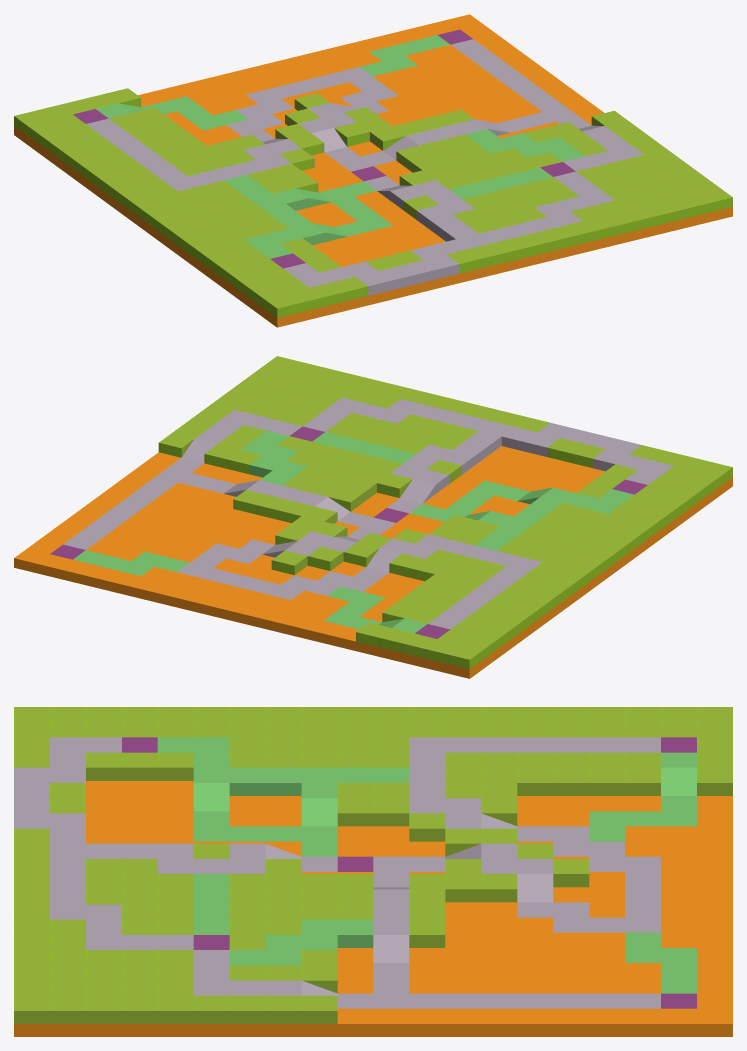
The model's file is JGTerr.fbx.
3 views of the same model, one above another, from view 1: azimuth 30°, elevation 25°; view 2: azimuth 150°, elevation 25°; view 3: azimuth 270°, elevation 25° (orthographic). The views are drawn at different scales.
Parts seen in each view (by area): view 1: HiPlain, LgPlain, Road.034, LgRoad.041; view 2: HiPlain, LgPlain, Road.034, LgRoad.041; view 3: HiPlain, LgPlain, Road.034, LgRoad.041, Temle.004, Temle.001, Temle.002, Temle.003, Temle.
Part boxes in pixels (bbox=[...]): HiPlain: bbox=[14, 88, 732, 317]; LgPlain: bbox=[14, 14, 732, 327]; Road.034: bbox=[86, 39, 643, 295]; LgRoad.041: bbox=[96, 35, 585, 258]; HiPlain: bbox=[158, 356, 732, 669]; LgPlain: bbox=[14, 446, 732, 678]; Road.034: bbox=[63, 397, 673, 629]; LgRoad.041: bbox=[73, 430, 634, 633]; HiPlain: bbox=[14, 707, 732, 1023]; LgPlain: bbox=[14, 781, 732, 1036]; Road.034: bbox=[14, 737, 660, 1008]; LgRoad.041: bbox=[157, 737, 696, 993]; Temle.004: bbox=[337, 856, 373, 871]; Temle.001: bbox=[122, 737, 157, 752]; Temle.002: bbox=[661, 993, 696, 1008]; Temle.003: bbox=[661, 737, 696, 752]; Temle: bbox=[193, 935, 229, 949].
Size of the model in its own units: 10000 by 400 by 10000.
